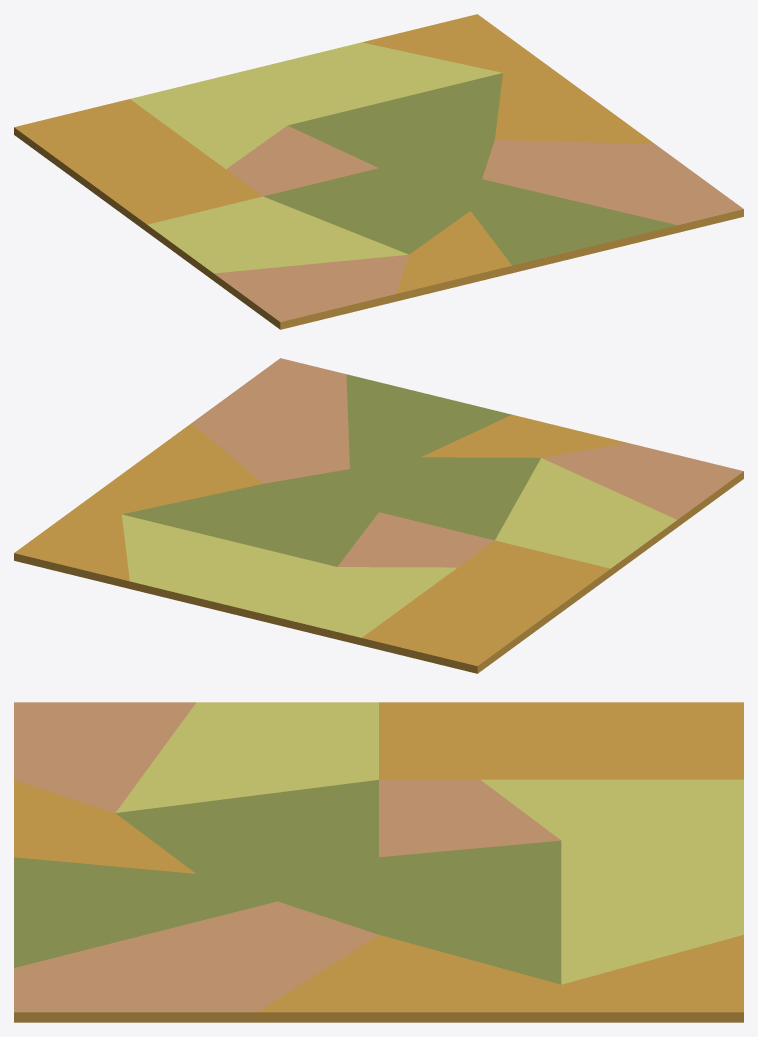
The model's file is Playground Lot.fbx.
3 renders of one model, top to bottom at view 1: azimuth 30°, elevation 25°; view 2: azimuth 150°, elevation 25°; view 3: azimuth 270°, elevation 25°, orthographic. The views are drawn at different scales.
Parts seen in each view (by area): view 1: Cube_004; view 2: Cube_004; view 3: Cube_004.
Boxes of the visible parts, x1,y1,x2,y2 form: Cube_004: [14, 14, 743, 329]; Cube_004: [14, 358, 743, 673]; Cube_004: [14, 702, 743, 1022].
Size of the model in its own units: 1808 by 28.44 by 1800.
